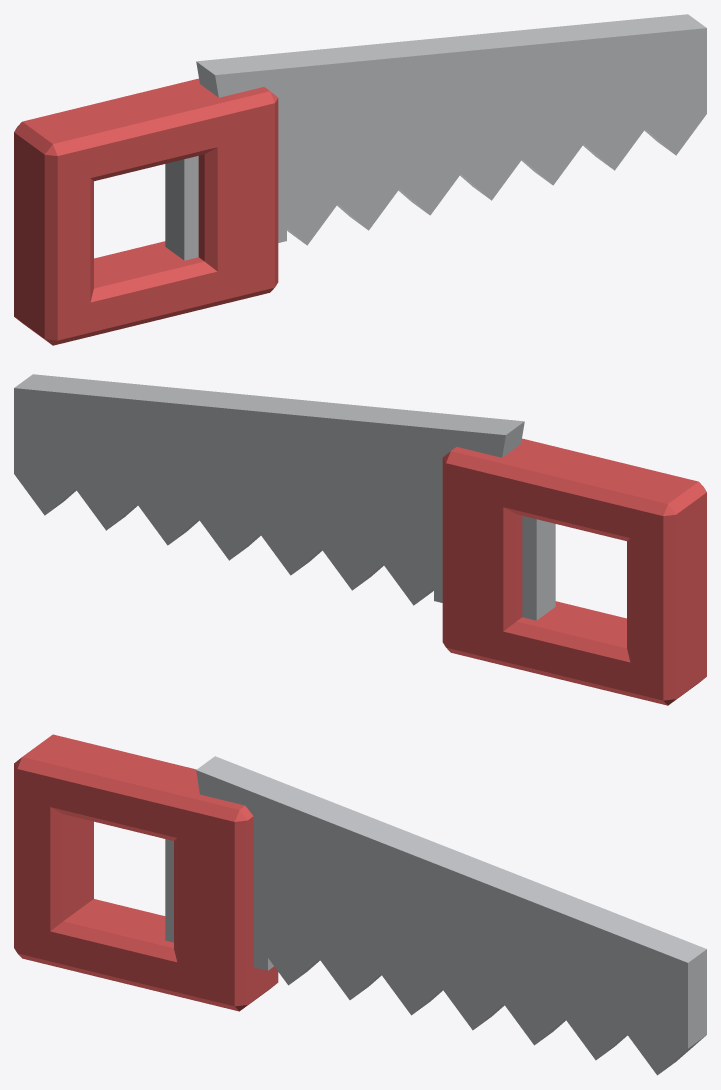
Rendered from saw.glb.
3 views of the same model, one above another, from view 1: azimuth 30°, elevation 25°; view 2: azimuth 150°, elevation 25°; view 3: azimuth 330°, elevation 25° (orthographic).
Visible parts, largest first — view 1: Blade, GripFar, GripNear, GripTop, GripBot, Tang; view 2: Blade, GripNear, GripTop, GripFar, GripBot, Tang; view 3: Blade, GripNear, GripTop, GripBot, GripFar, Tang.
Boxes of the visible parts, x1=… form: Blade: x1=196, y1=14, x2=706, y2=245; GripFar: x1=14, y1=121, x2=93, y2=345; GripNear: x1=198, y1=87, x2=278, y2=306; GripTop: x1=24, y1=78, x2=248, y2=185; GripBot: x1=55, y1=241, x2=248, y2=344; Tang: x1=165, y1=123, x2=286, y2=260; Blade: x1=14, y1=374, x2=524, y2=605; GripNear: x1=442, y1=447, x2=522, y2=666; GripTop: x1=472, y1=438, x2=696, y2=545; GripFar: x1=627, y1=481, x2=706, y2=705; GripBot: x1=472, y1=601, x2=665, y2=704; Tang: x1=434, y1=483, x2=555, y2=620; Blade: x1=196, y1=756, x2=706, y2=1075; GripNear: x1=174, y1=799, x2=278, y2=1011; GripTop: x1=19, y1=735, x2=218, y2=844; GripBot: x1=19, y1=899, x2=207, y2=999; GripFar: x1=14, y1=734, x2=93, y2=964; Tang: x1=165, y1=839, x2=273, y2=970.
Size of the model in its own units: 0.326 by 0.105 by 0.034.
